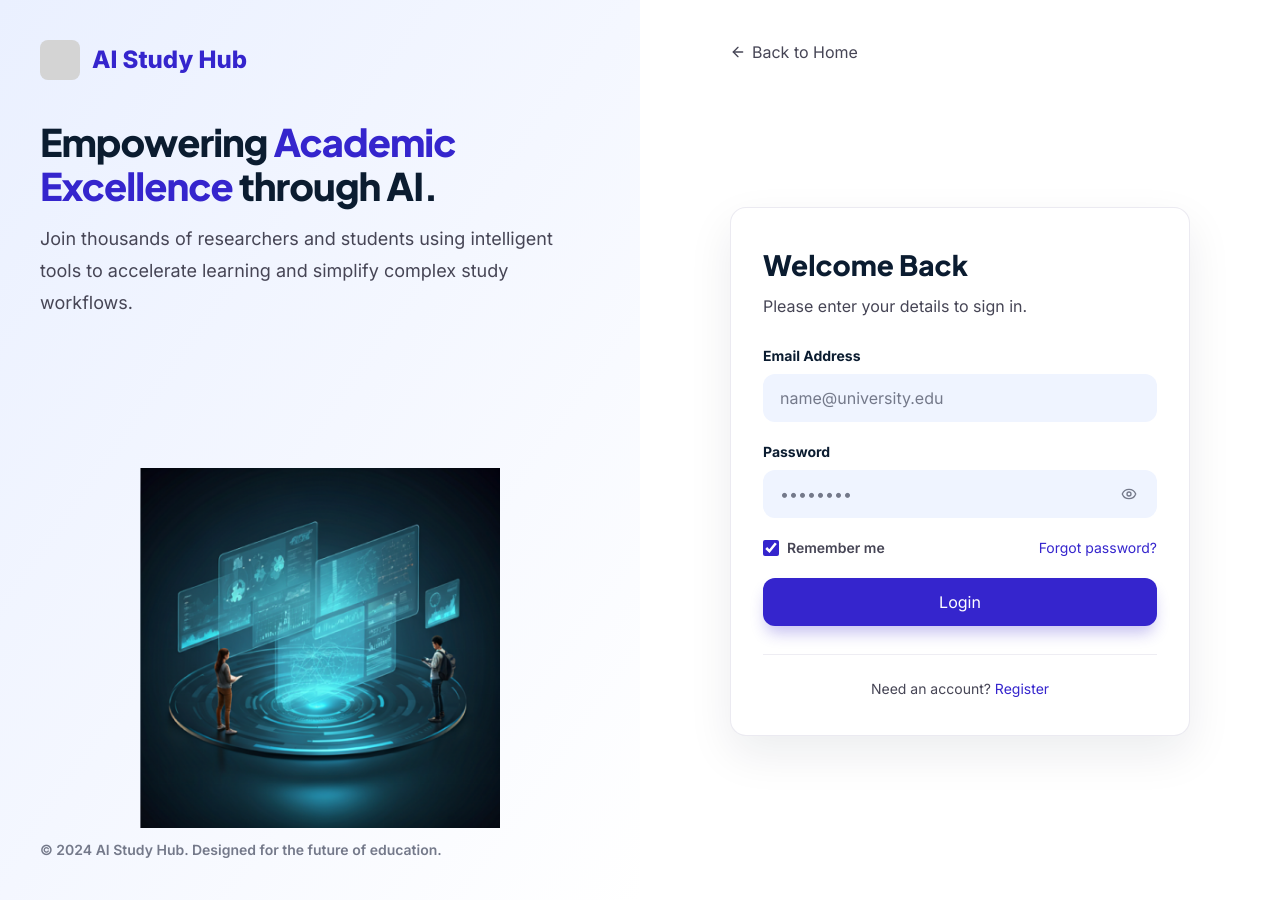
Test: LoginPage › shows error if login fails
Type "test@test.com" into the field labelled "Email Address". click: (960, 398)
box: [763, 374, 1157, 422]
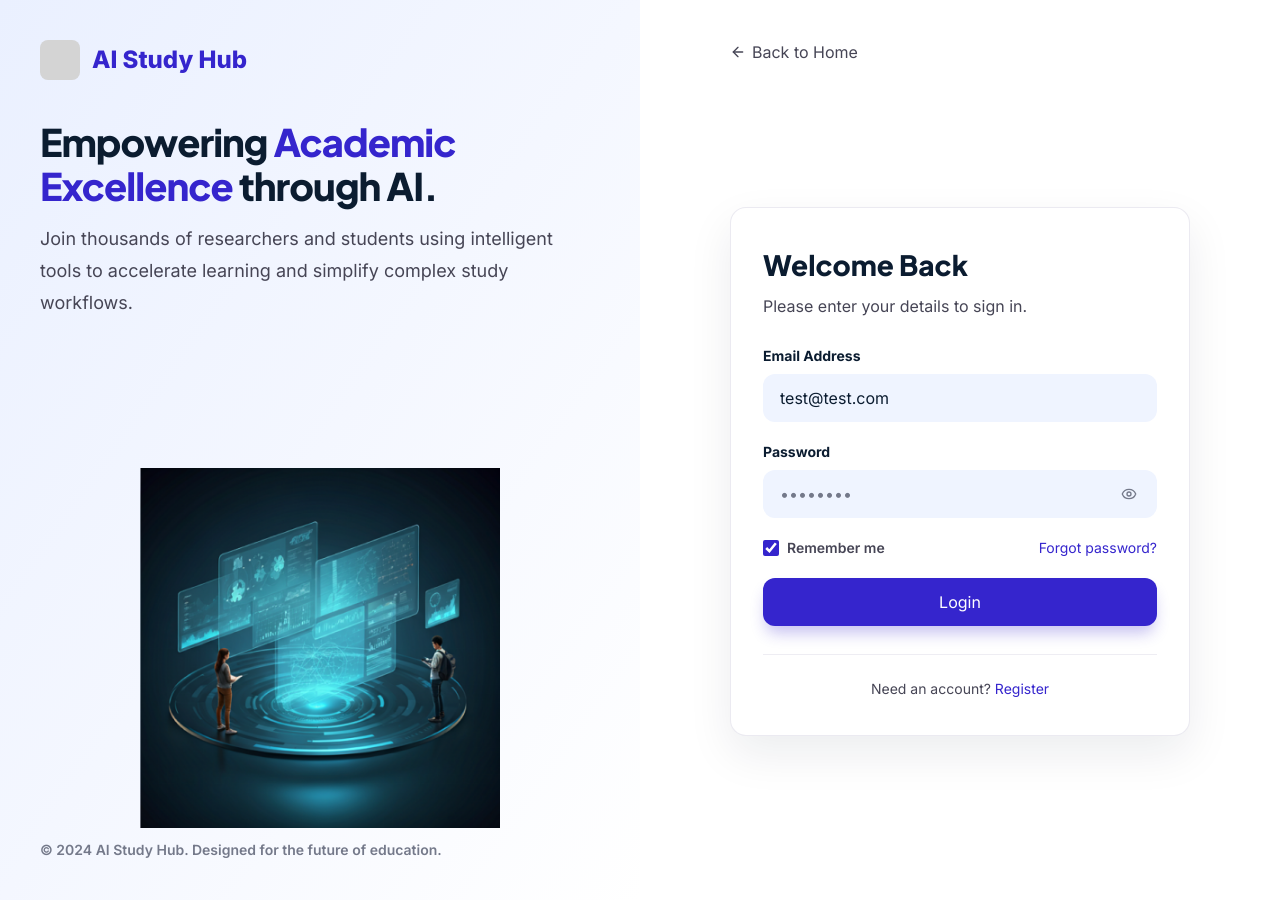
Type "password" into the password field labelled "Password". click: (960, 494)
box: [763, 470, 1157, 518]
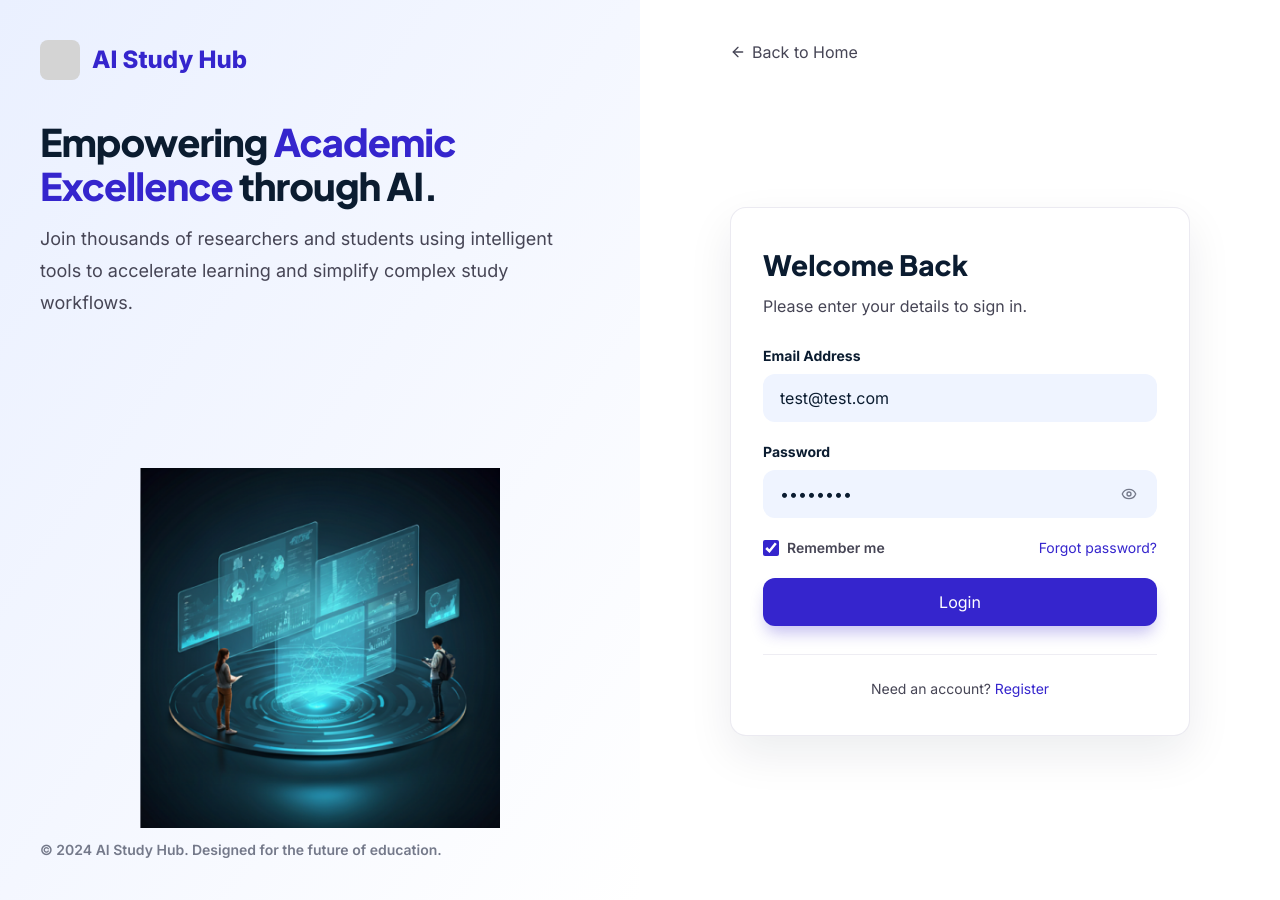
Click the button "Login". click: (960, 602)
box: [763, 578, 1157, 626]
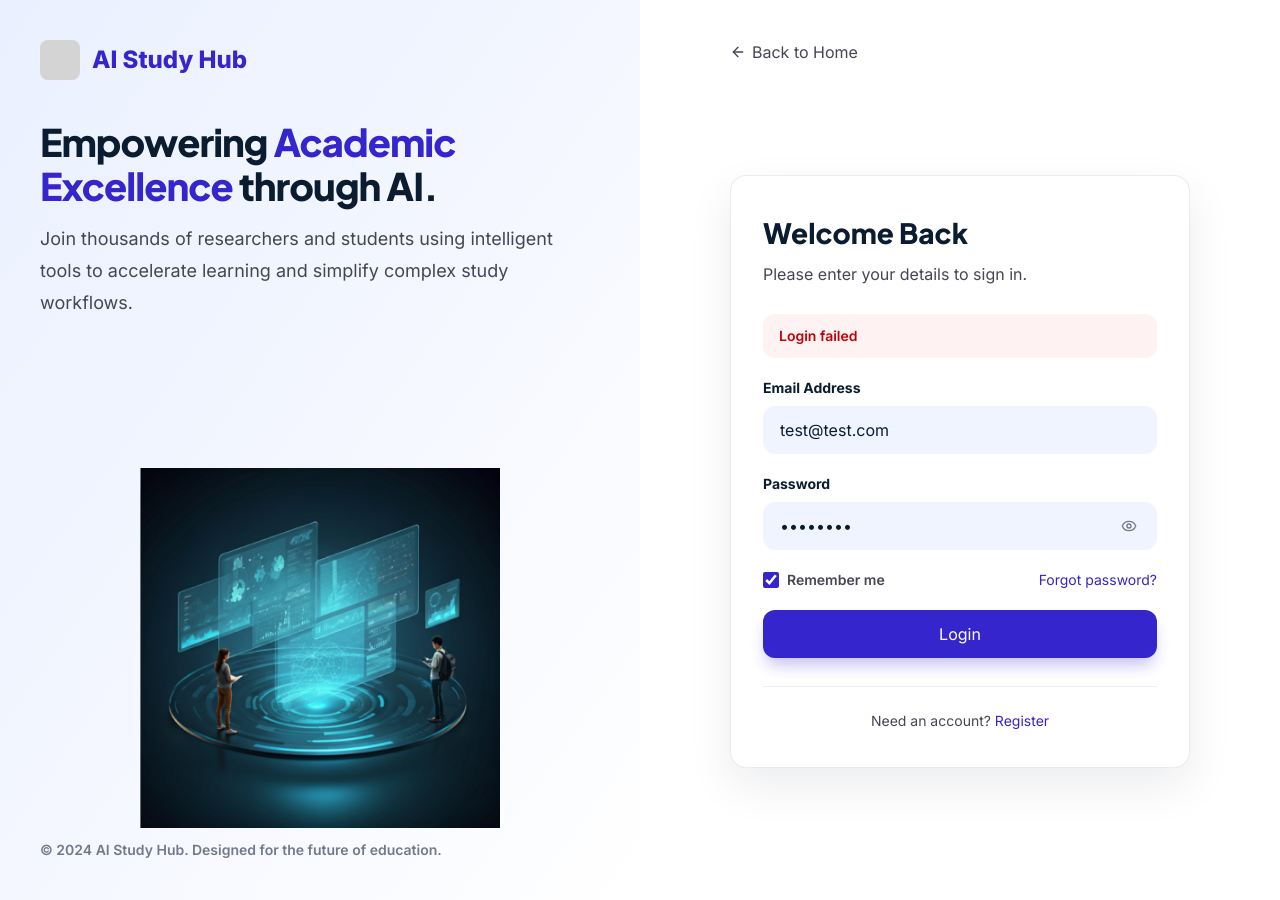
Expected: the text "Login failed" is shown, [763, 314, 1157, 358]
